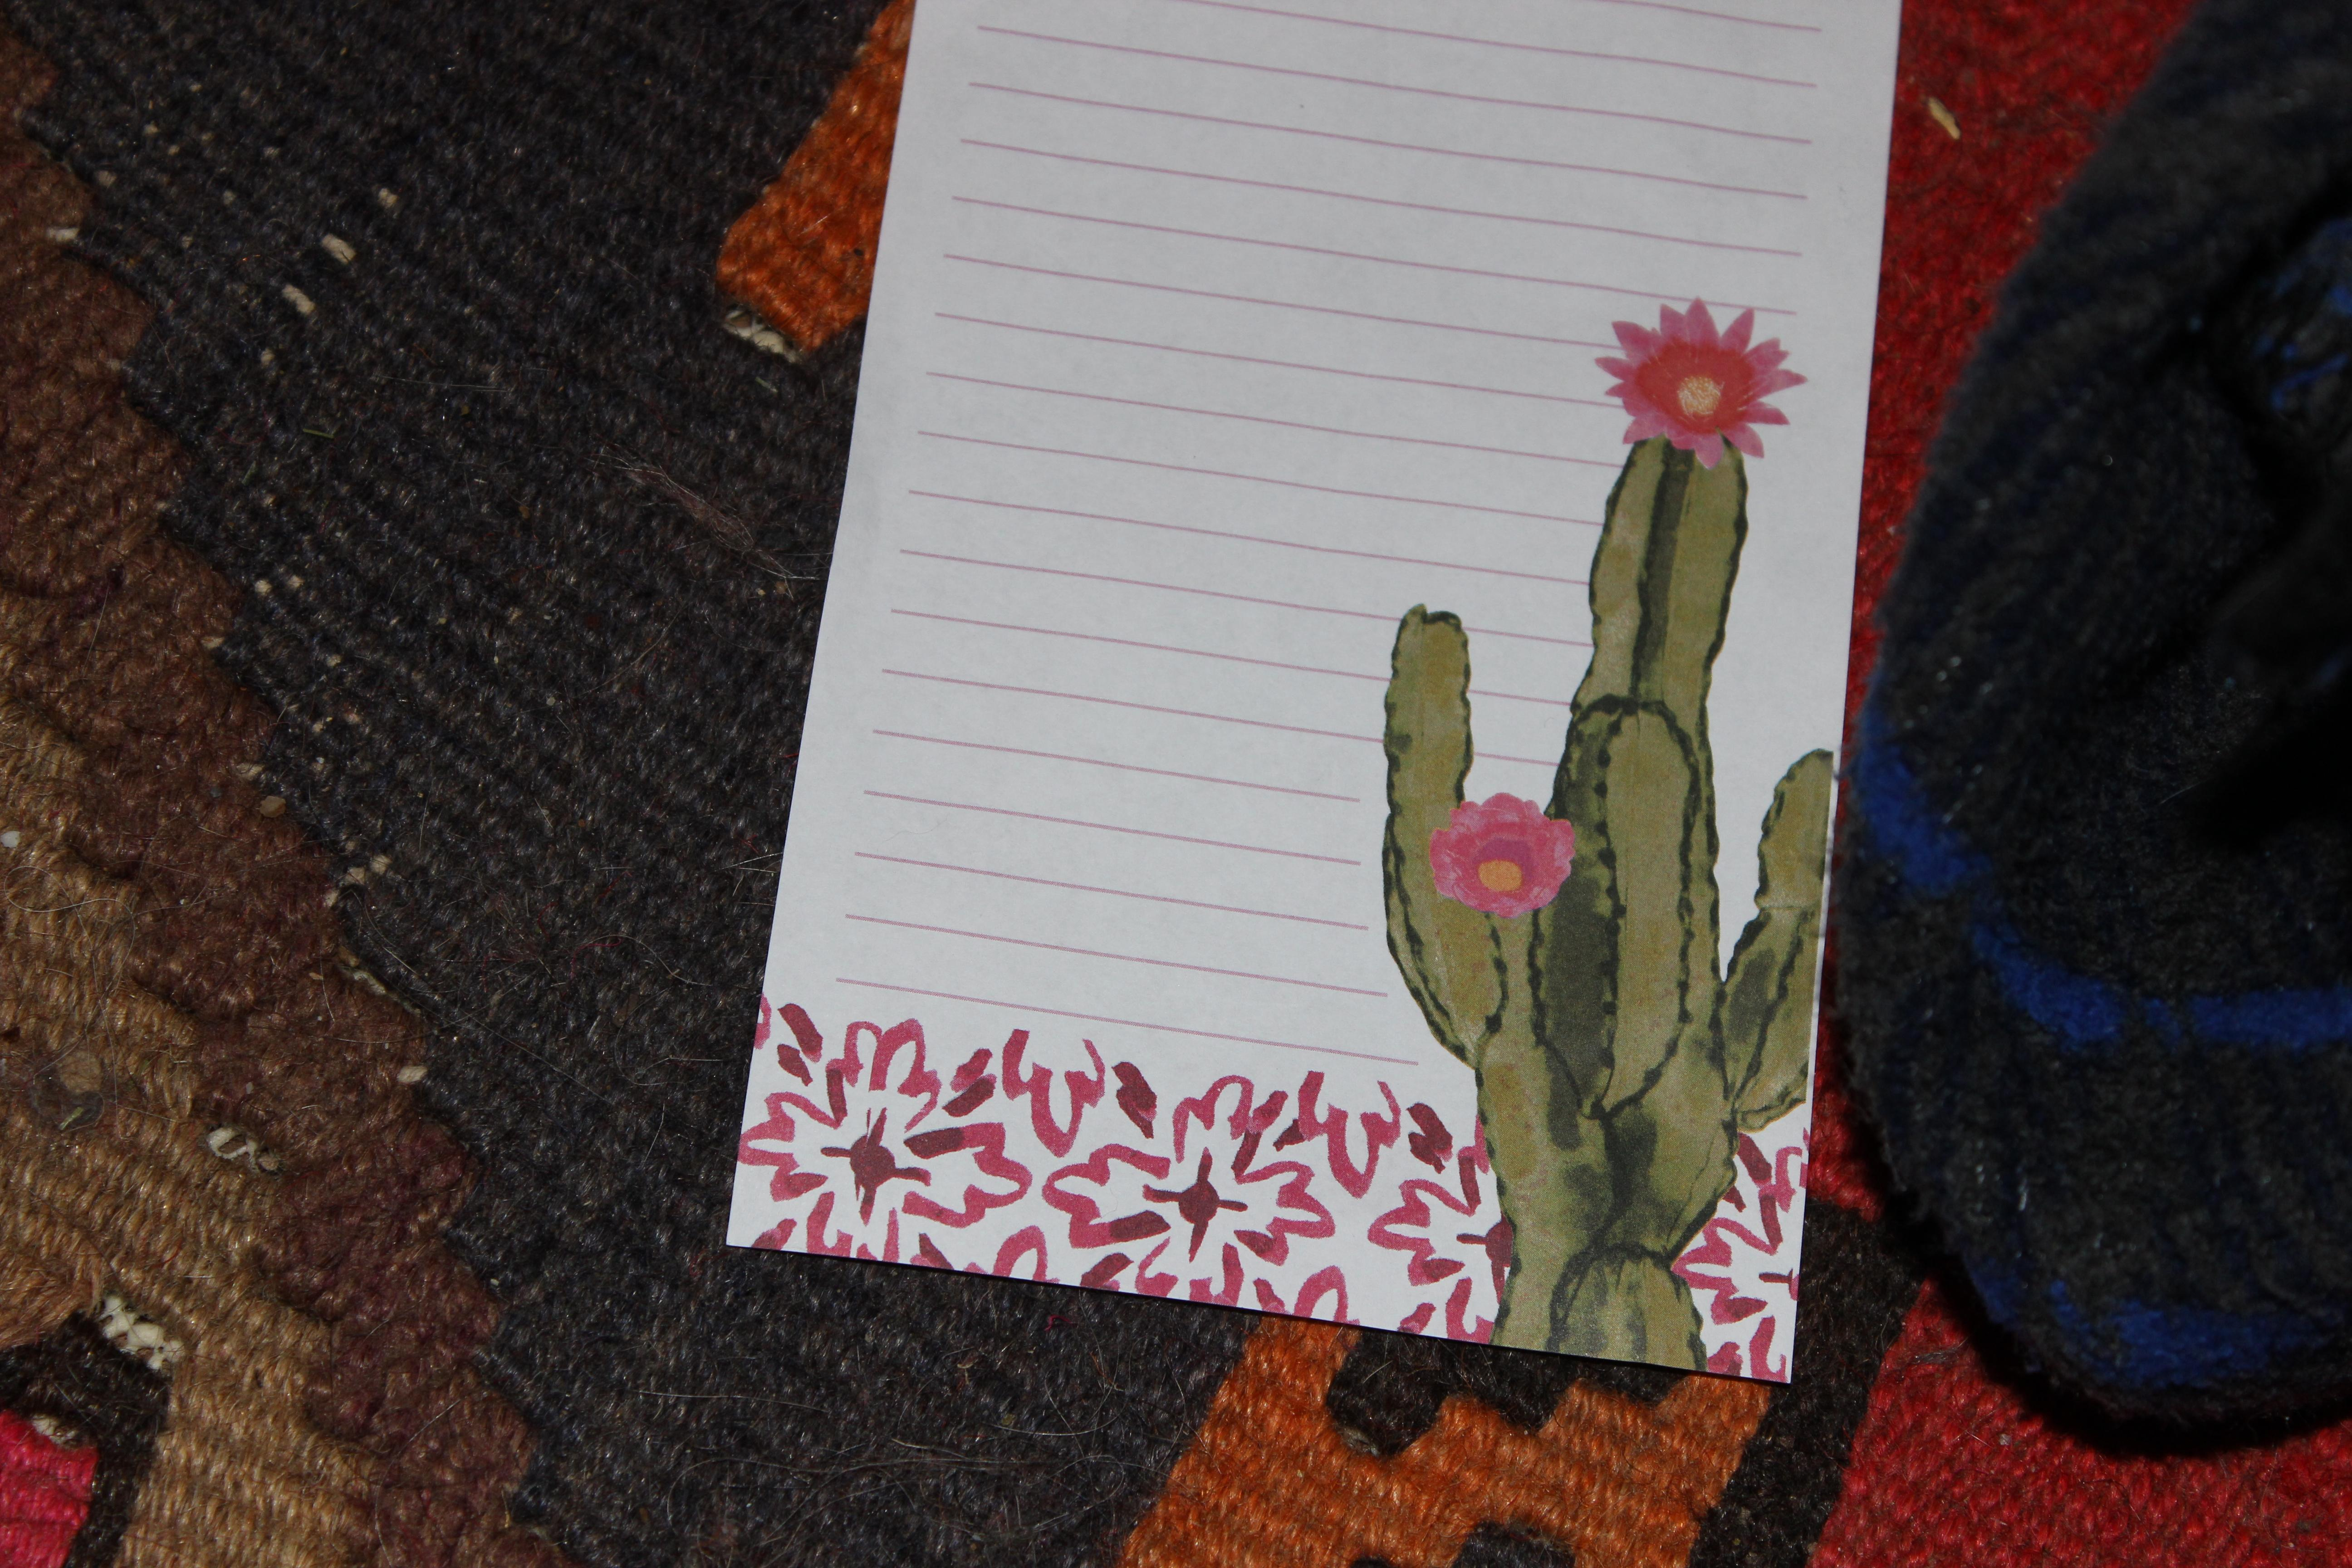cactusPaper: (704, 0, 1957, 1423)
